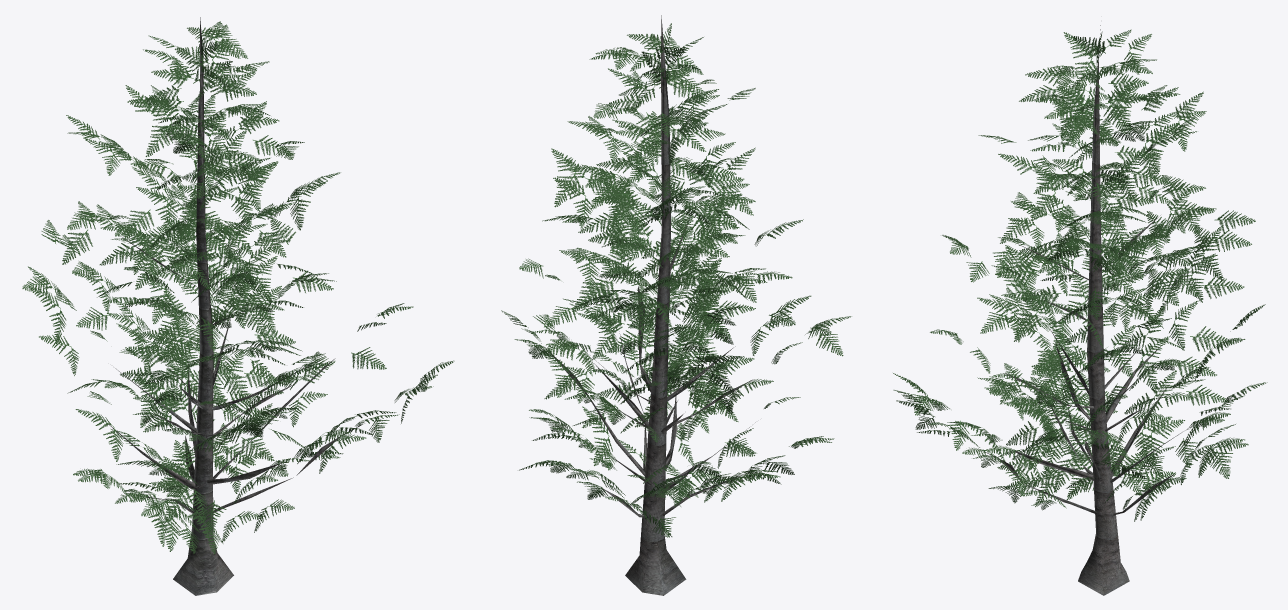
Rendered from tree_evergreen.glb.
3 views of the same model, side by side, from view 1: azimuth 30°, elevation 25°; view 2: azimuth 150°, elevation 25°; view 3: azimuth 270°, elevation 25° (orthographic).
Visible parts, largest first — view 1: Evergreen Tree; view 2: Evergreen Tree; view 3: Evergreen Tree.
Part boxes in pixels (x1,y1,x2,y2): Evergreen Tree: [22, 17, 454, 595]; Evergreen Tree: [501, 15, 851, 595]; Evergreen Tree: [893, 25, 1267, 595].
Size of the model in its own units: 8.58 by 14.44 by 9.05.
2 materials, 2 textured.
